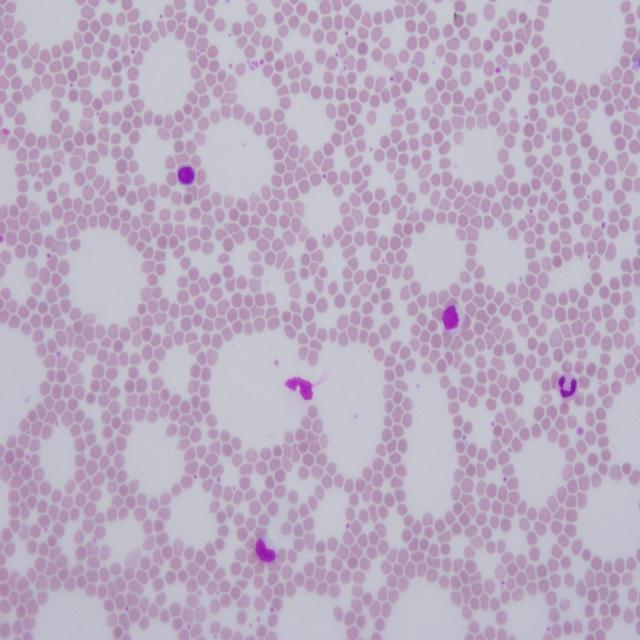cell: (558, 373, 579, 402)
